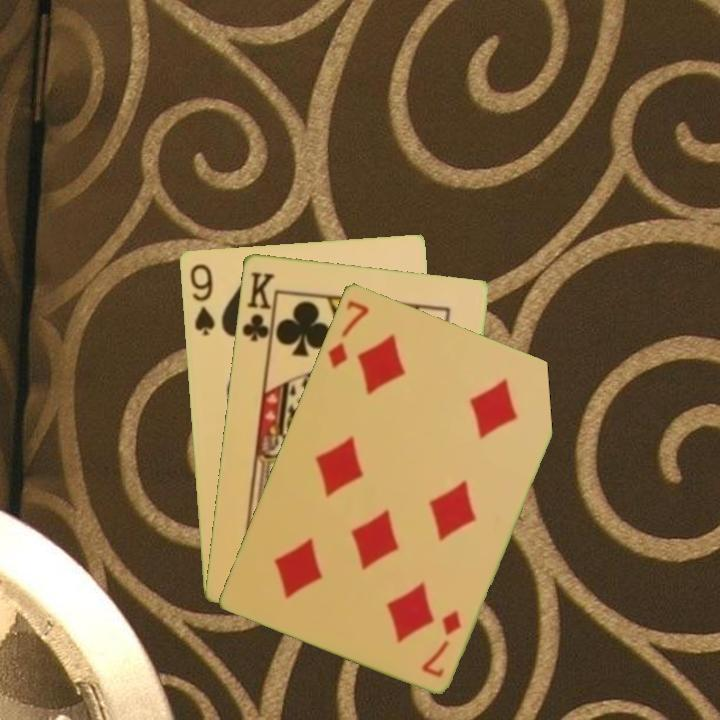7d: (324, 296, 372, 372), (418, 606, 465, 680)
9s: (186, 260, 217, 339)
Kc: (238, 268, 278, 349)
